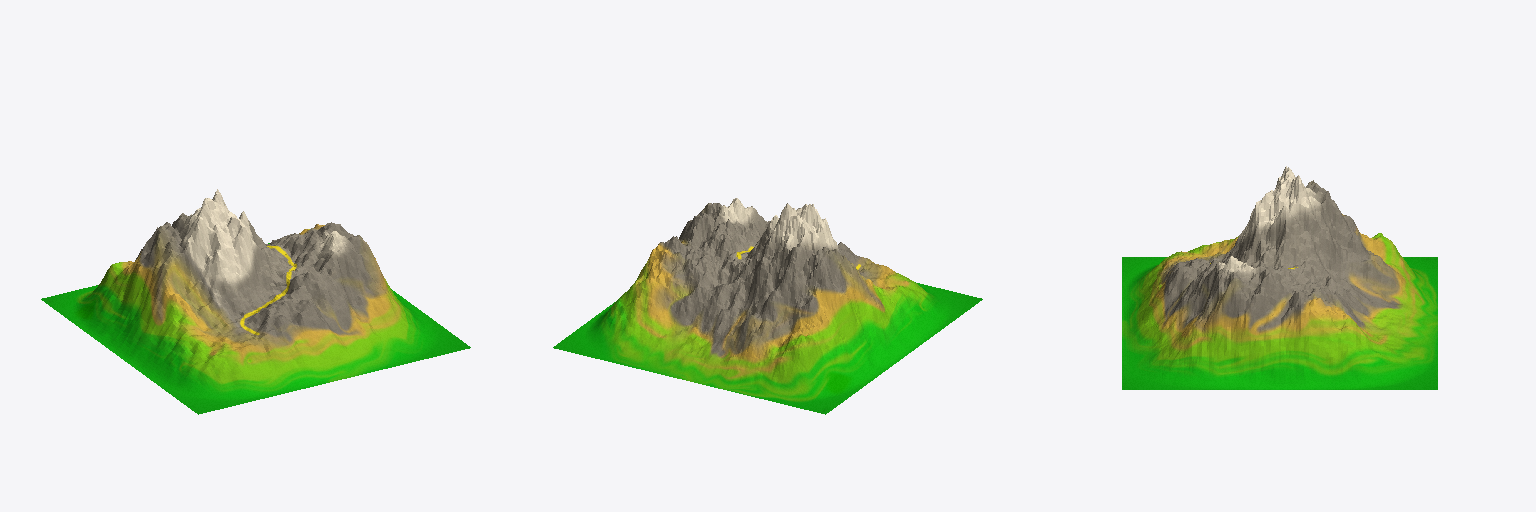
The picture shows the model from 3 angles: view 1: azimuth 30°, elevation 25°; view 2: azimuth 150°, elevation 25°; view 3: azimuth 270°, elevation 25°; orthographic projection.
Visible parts, largest first — view 1: Landscape; view 2: Landscape; view 3: Landscape.
Part boxes in pixels (left/top/right/bottom): Landscape: left=41, top=189, right=470, bottom=414; Landscape: left=553, top=198, right=982, bottom=414; Landscape: left=1122, top=166, right=1437, bottom=389.
Size of the model in its own units: 2 by 0.9428 by 2.
Materials: 1 (1 with a texture image).